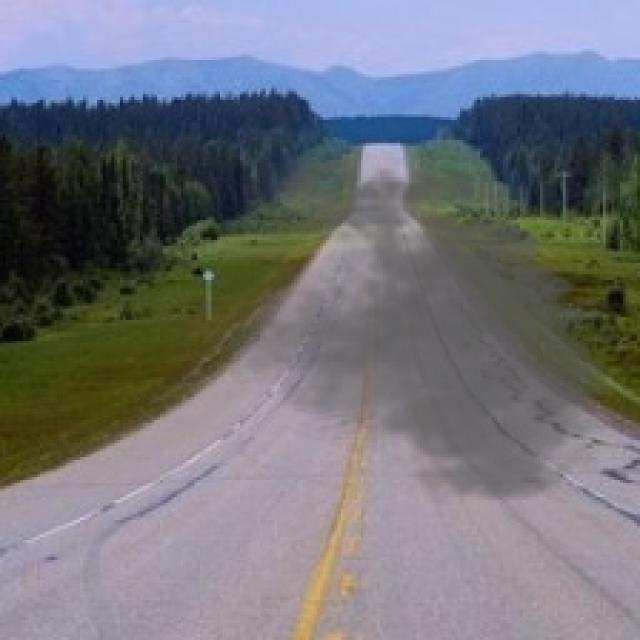smoke: (232, 146, 632, 508)
